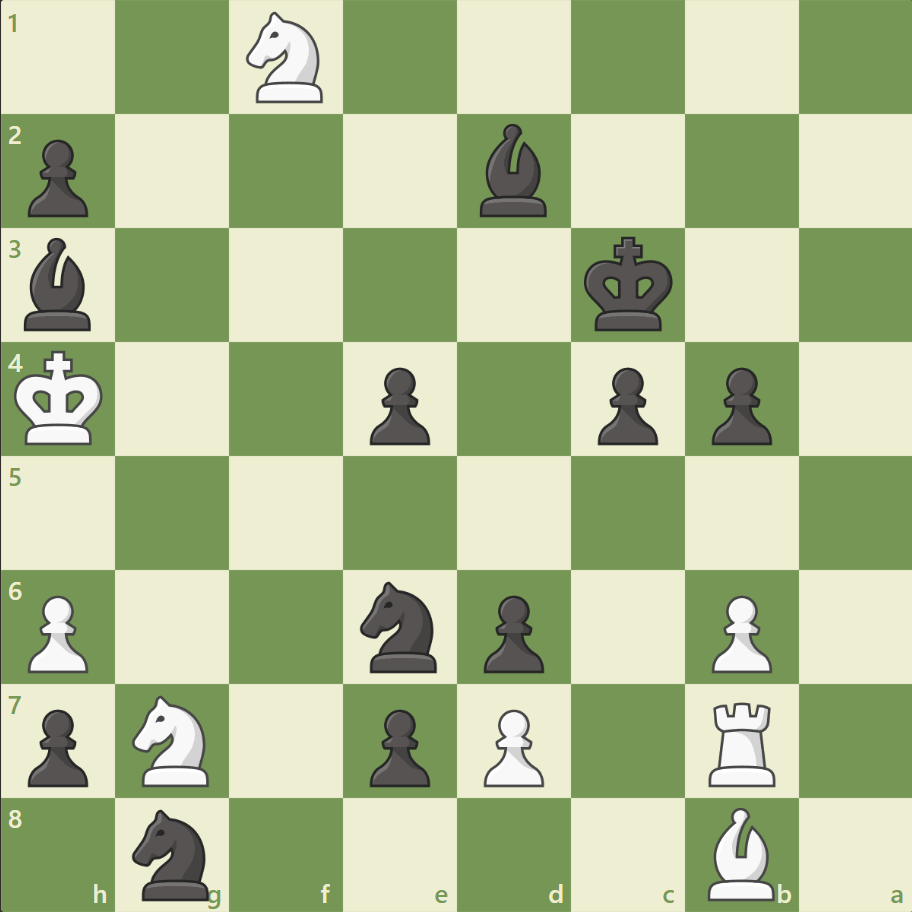B: (698, 801, 782, 904)
K: (11, 344, 111, 452)
N: (124, 688, 222, 791), (238, 7, 335, 110)
P: (474, 700, 549, 791), (701, 586, 776, 677), (20, 586, 95, 677)
R: (700, 693, 783, 790)
b: (17, 233, 101, 336), (471, 120, 555, 222)
k: (579, 231, 679, 339)
n: (124, 802, 222, 904), (351, 575, 449, 677)
p: (20, 700, 95, 791), (474, 586, 549, 677), (701, 359, 776, 450), (20, 132, 95, 223), (361, 700, 435, 791), (588, 359, 662, 450), (361, 359, 435, 450)
